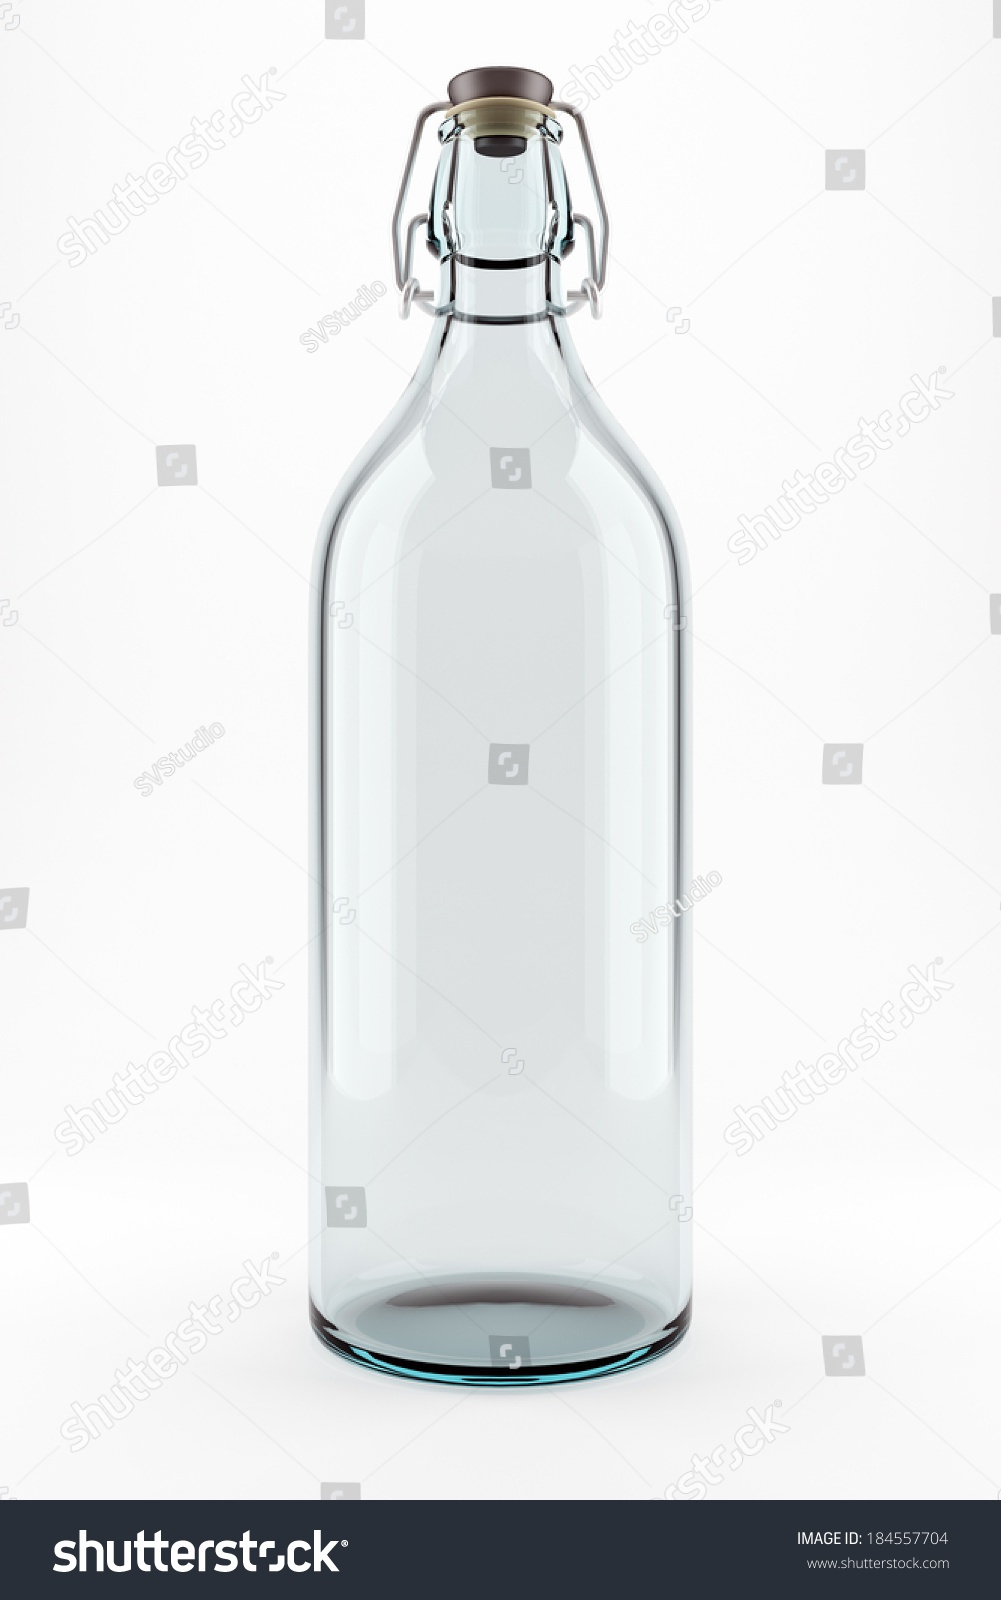emptybottle: (319, 71, 692, 1380)
